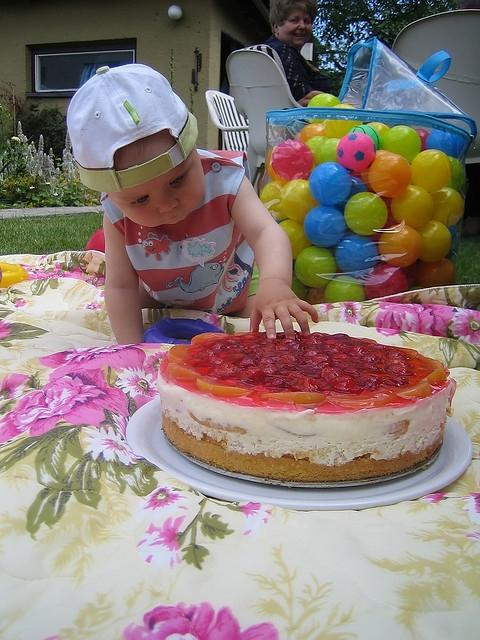peach: (327, 387, 396, 409), (196, 378, 253, 393), (260, 392, 324, 404), (166, 360, 202, 380), (191, 332, 230, 348), (396, 380, 432, 396), (168, 344, 196, 363), (426, 366, 447, 386), (392, 346, 418, 357)
